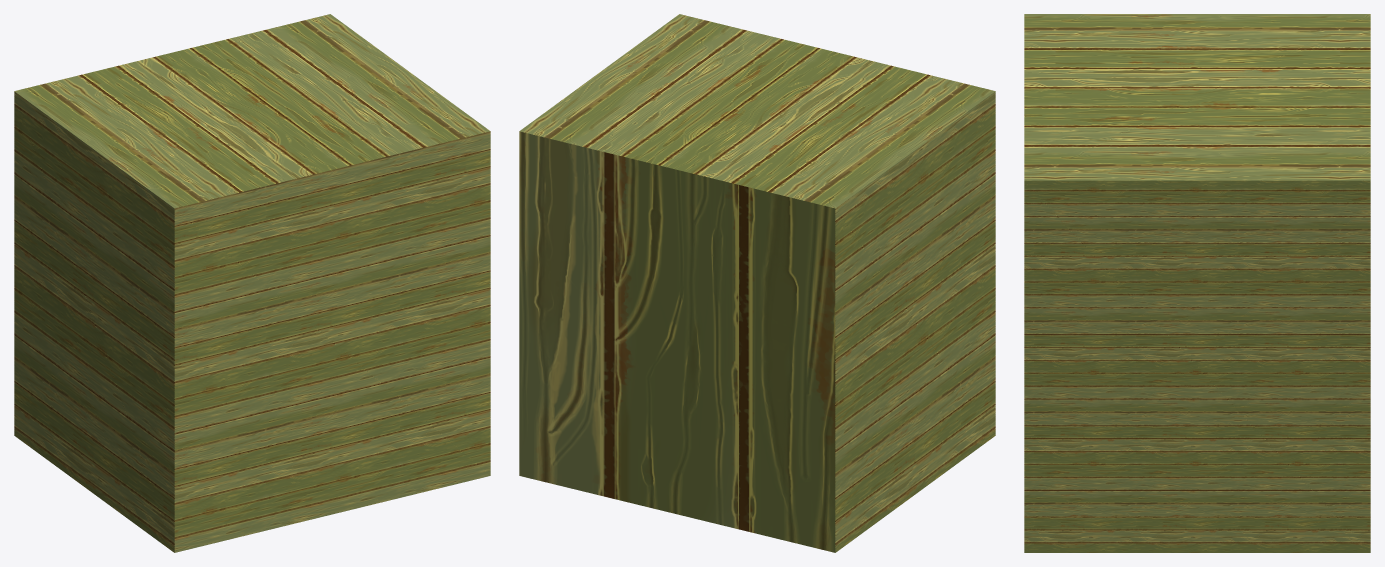
The picture shows the model from 3 angles, left to right: view 1: azimuth 30°, elevation 25°; view 2: azimuth 150°, elevation 25°; view 3: azimuth 270°, elevation 25°; orthographic projection. The views are drawn at different scales.
Parts seen in each view (by area): view 1: Cube.1398; view 2: Cube.1398; view 3: Cube.1398.
Boxes of the visible parts, x1=… form: Cube.1398: x1=14, y1=14, x2=490, y2=552; Cube.1398: x1=519, y1=14, x2=995, y2=552; Cube.1398: x1=1024, y1=14, x2=1370, y2=552.
Size of the model in its own units: 767 by 799 by 674.
Materials: 1 (1 with a texture image).
